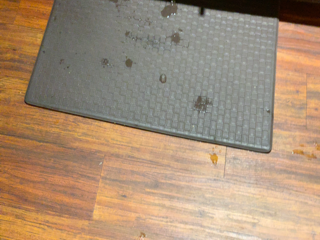Edge: (23, 103, 276, 156), (23, 2, 56, 104), (271, 22, 280, 155)
